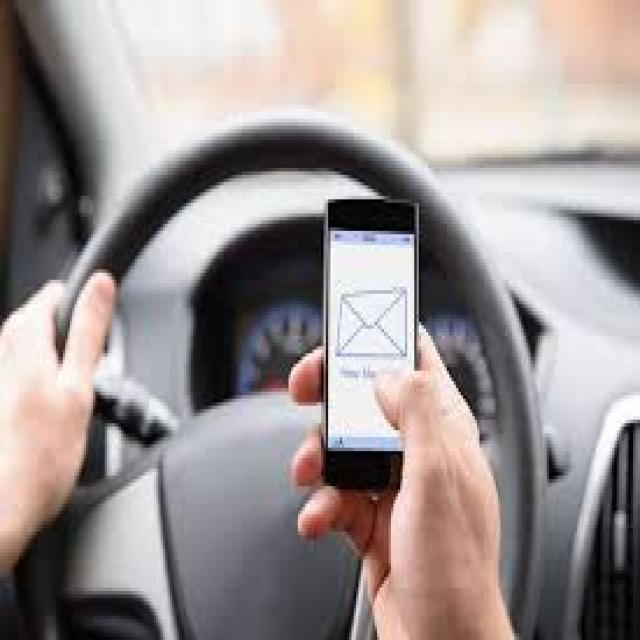Cellphone_texting: (284, 185, 498, 633)
